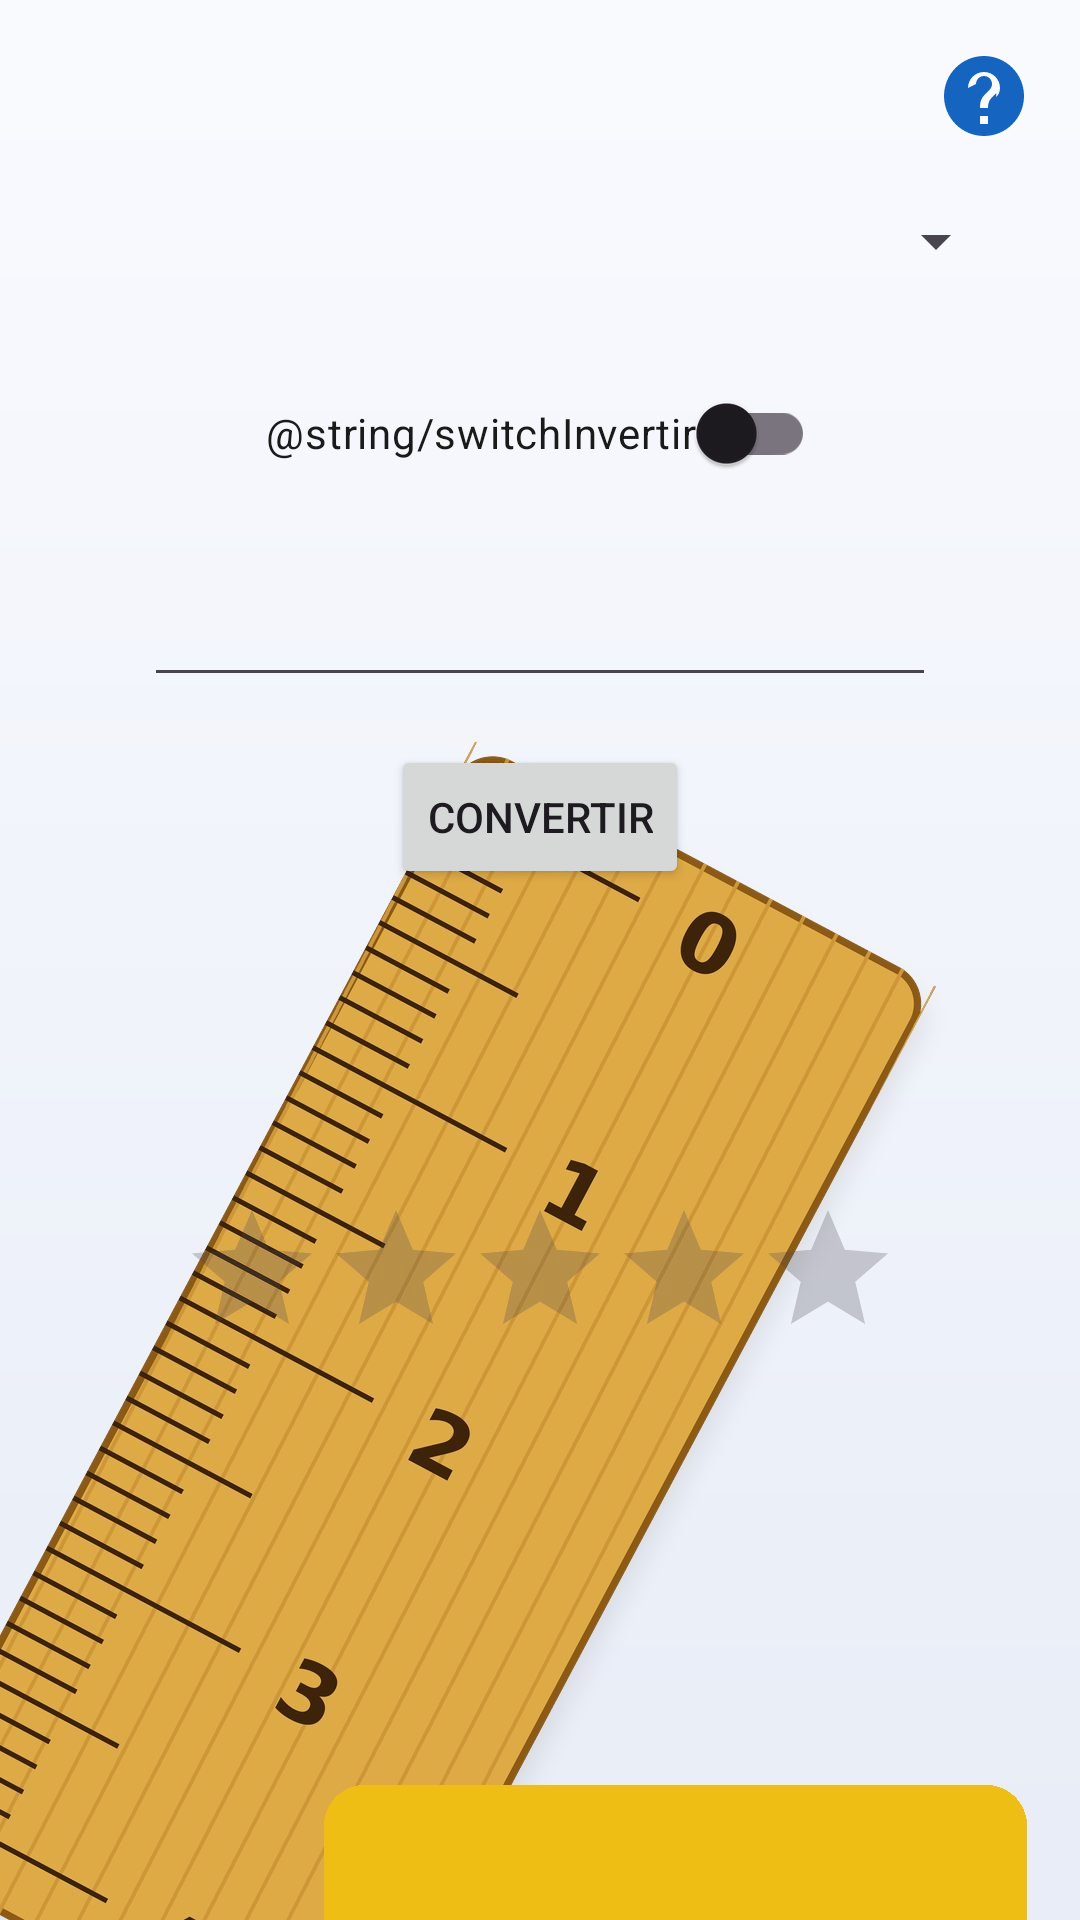

Named icons in this screenshot (1080px×1920px) and their centers, point (x, y):
help: point (984, 96)
